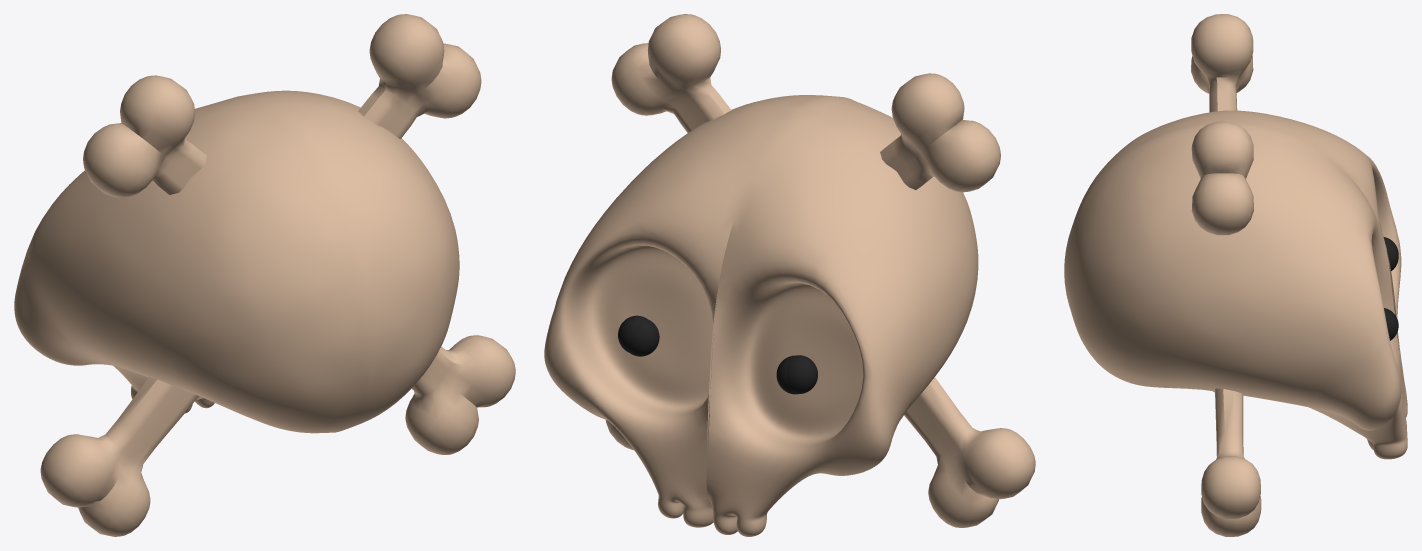
File: calaveraParaUnity.fbx
The picture shows the model from 3 angles, left to right: view 1: azimuth 30°, elevation 25°; view 2: azimuth 150°, elevation 25°; view 3: azimuth 270°, elevation 25°; orthographic projection. The views are drawn at different scales.
Parts seen in each view (by area): view 1: calavera, hueso2, hueso1; view 2: calavera, hueso2, hueso1; view 3: calavera, hueso1, hueso2.
Part boxes in pixels (<box>): calavera: <box>14,90,459,433</box>; hueso2: <box>40,14,481,536</box>; hueso1: <box>83,75,515,454</box>; calavera: <box>544,95,978,536</box>; hueso2: <box>611,14,1035,527</box>; hueso1: <box>605,73,1000,450</box>; calavera: <box>1064,110,1407,459</box>; hueso1: <box>1191,14,1261,536</box>; hueso2: <box>1191,121,1253,392</box>.
Size of the model in its own units: 273 by 250 by 198.
Materials: 1 (1 with a texture image).
